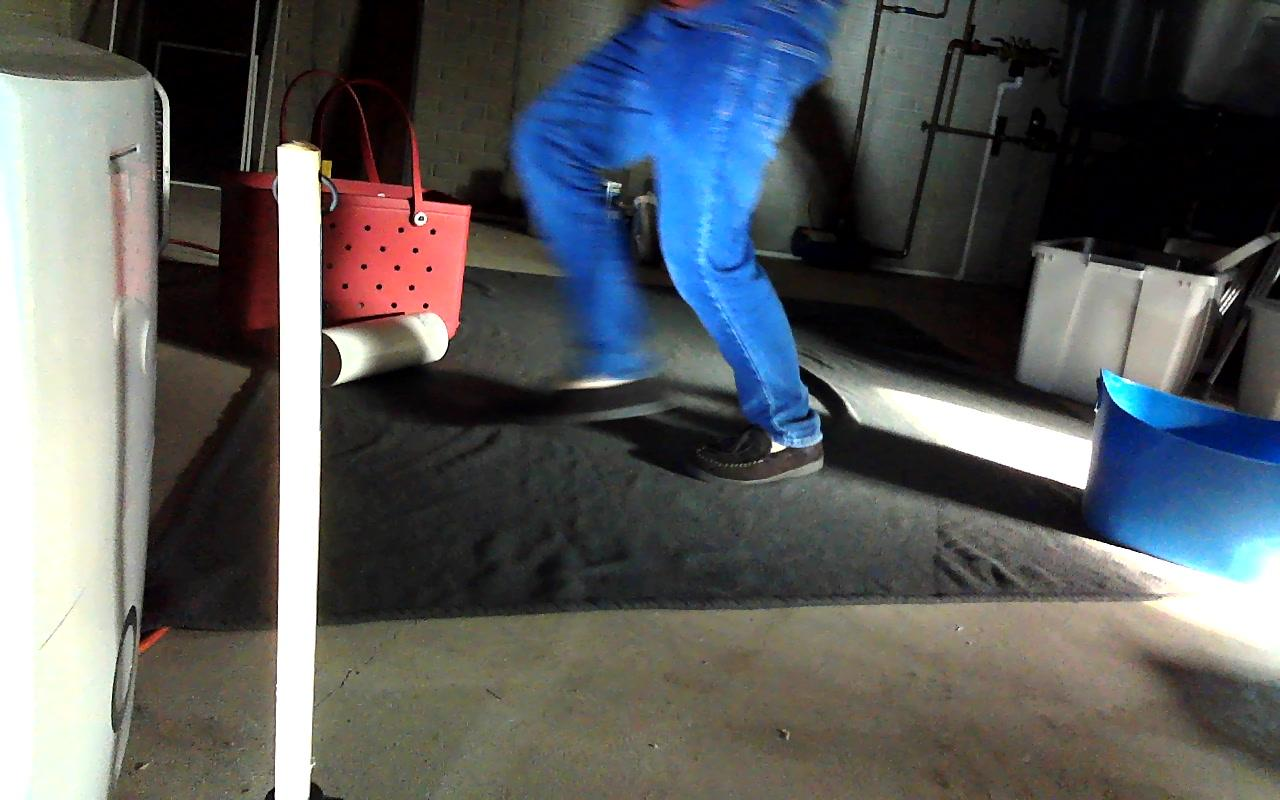coral: (322, 310, 449, 386)
